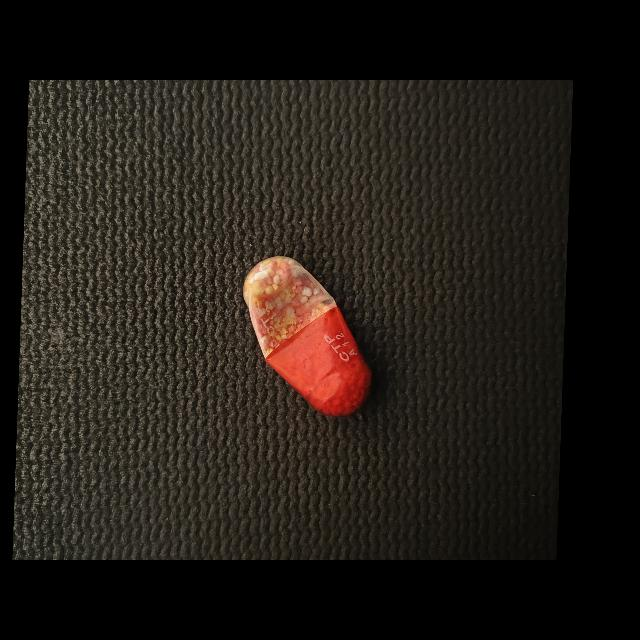Defective Capsule: (243, 256, 371, 416)
